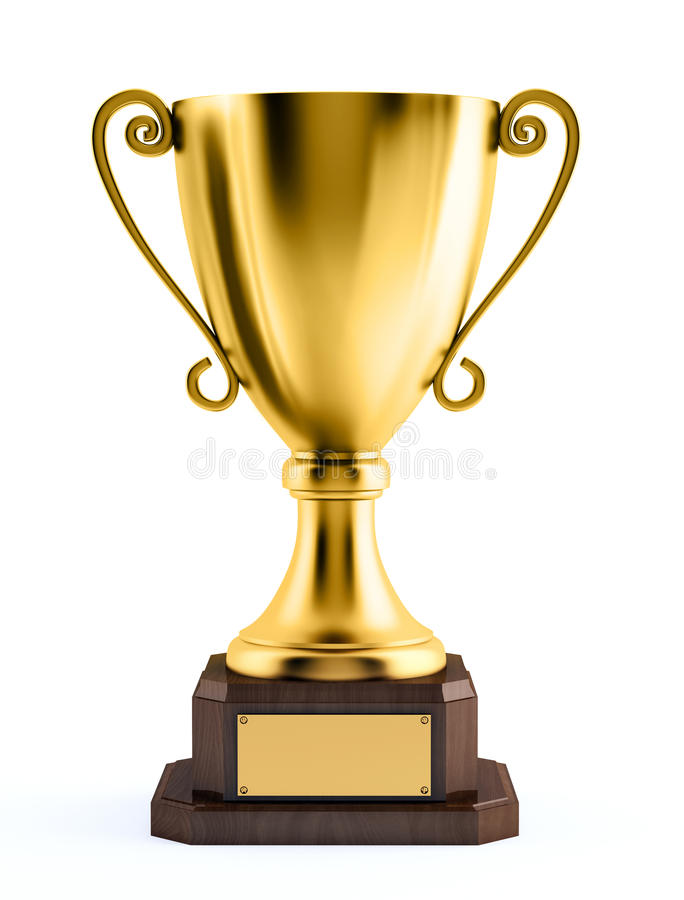trophy: (89, 85, 585, 846)
